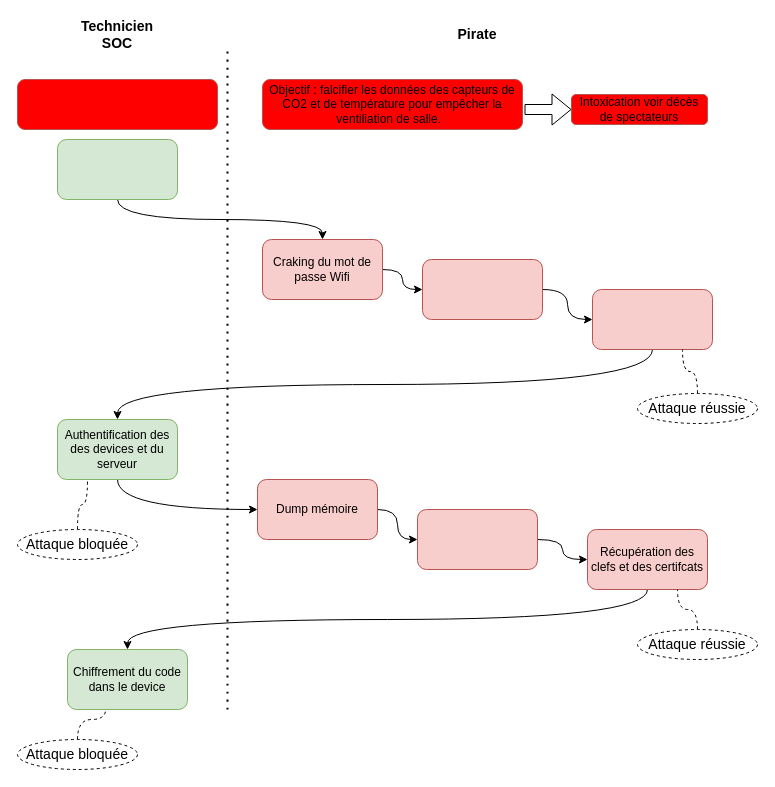
Some shapes in this 775 by 787 pixel diagram are drawn without their labels. The centre of each missing label's shape, as x and y in pixels:
"Analyse" goes at point (477, 539).
"Analyse du risque" goes at point (117, 169).
"Falsification données capteurs" goes at point (652, 319).
"Objectif : analyser et protéger la salle ZenithCiel" goes at point (117, 104).
"Récupération des données capteurs" goes at point (482, 289).
